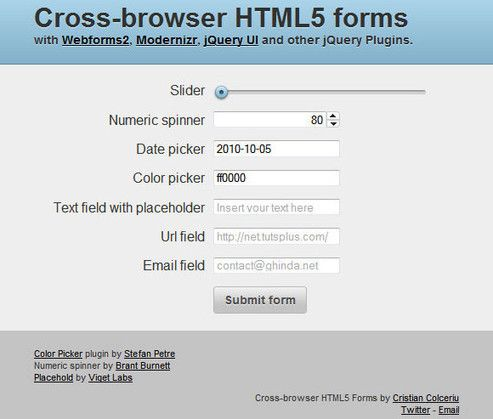_form_: (39, 1, 455, 417)
button: (211, 285, 310, 317)
field: (211, 225, 343, 248), (211, 168, 343, 190), (211, 255, 343, 277), (211, 197, 343, 218), (212, 138, 343, 157)
field_with_label: (55, 196, 344, 220), (109, 109, 346, 132), (133, 166, 346, 191), (142, 253, 345, 279), (158, 224, 346, 249), (137, 137, 345, 159)
select: (210, 110, 344, 131)
